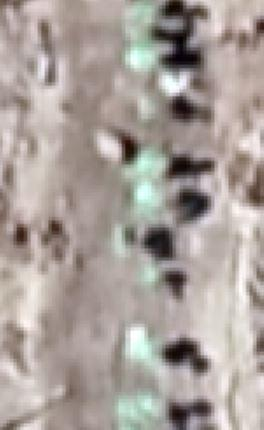cotton: (121, 396, 156, 430), (125, 44, 155, 73), (128, 184, 156, 211), (128, 333, 156, 358), (136, 151, 159, 174), (130, 2, 151, 22), (145, 268, 162, 286)
